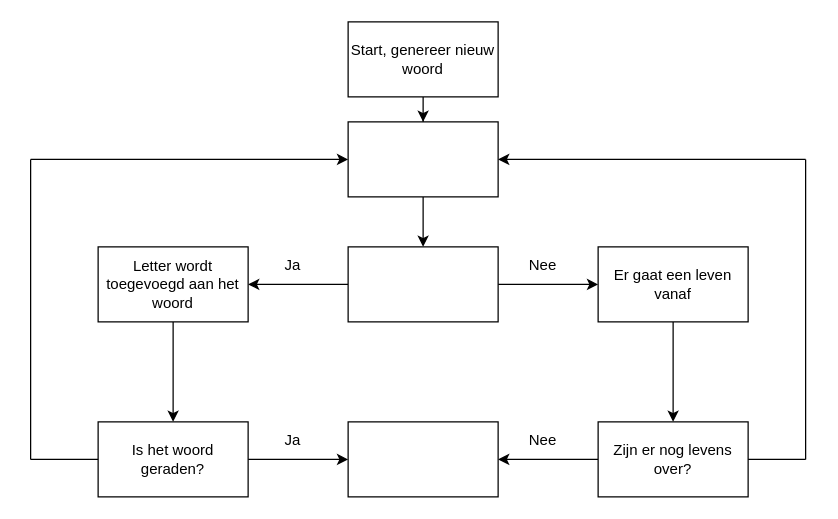
The diagram is 838 pixels wide and 519 high, and some of its shapes have lost their labels. The centre of each missing label's shape, as x and y in pixels:
"Beeindig spel" belongs at (x=422, y=459).
"Kies een letter" belongs at (x=422, y=159).
"Zit het letter in het woord?" belongs at (x=422, y=284).
